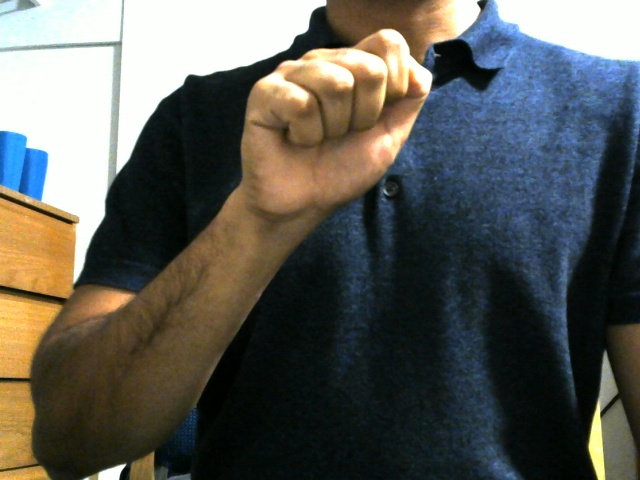A: (237, 20, 441, 223)
